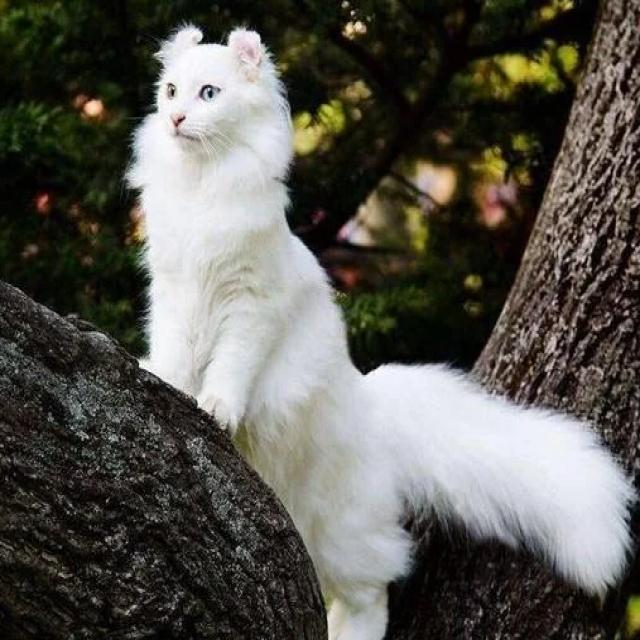American Curl: (122, 20, 637, 640)
